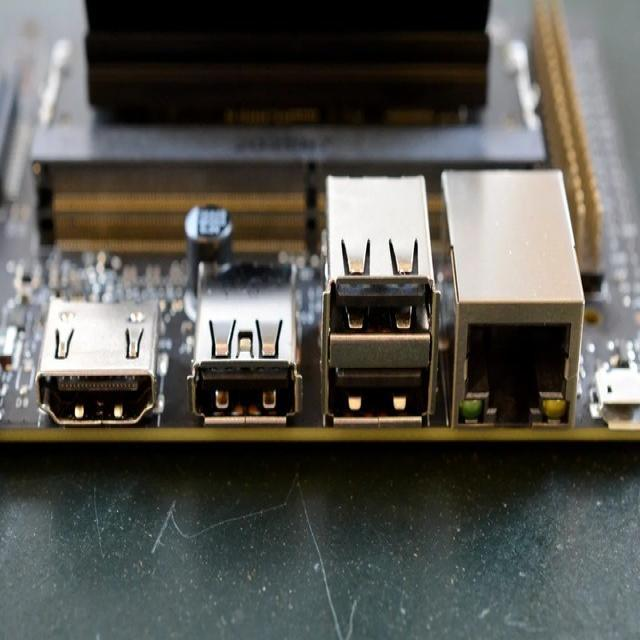Jetson Nano: (1, 2, 638, 440)
